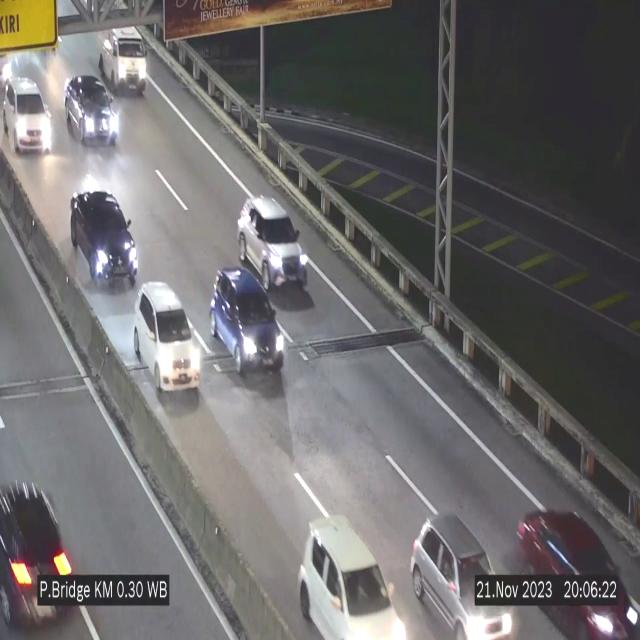Car: (510, 475, 639, 640), (410, 498, 520, 640), (297, 508, 407, 640), (0, 449, 73, 640), (210, 268, 284, 380), (134, 282, 200, 396), (238, 196, 308, 290), (68, 194, 141, 282), (99, 7, 149, 96), (66, 73, 120, 151), (2, 73, 53, 155)
